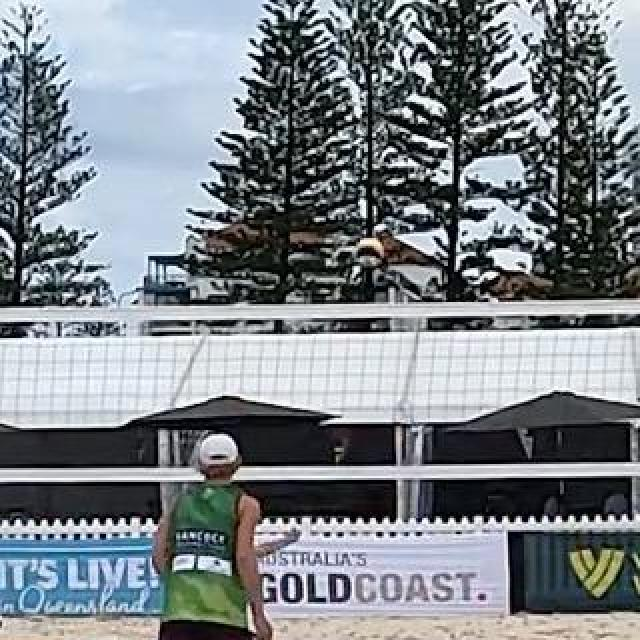volleyball: (354, 237, 384, 267)
